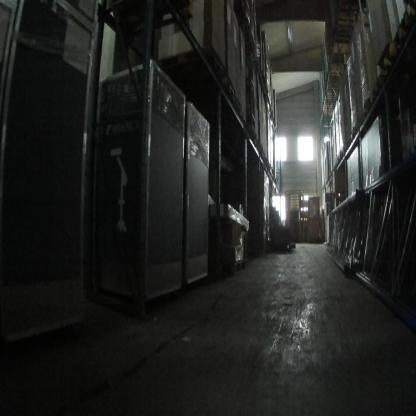pallet: (105, 0, 193, 36), (377, 43, 416, 79), (392, 10, 416, 51), (195, 77, 234, 99), (201, 97, 240, 116), (370, 78, 396, 104), (211, 111, 246, 125), (226, 124, 257, 139), (352, 125, 373, 137), (408, 0, 416, 15), (325, 92, 338, 100), (340, 145, 346, 158), (323, 104, 334, 110), (322, 183, 324, 188)
